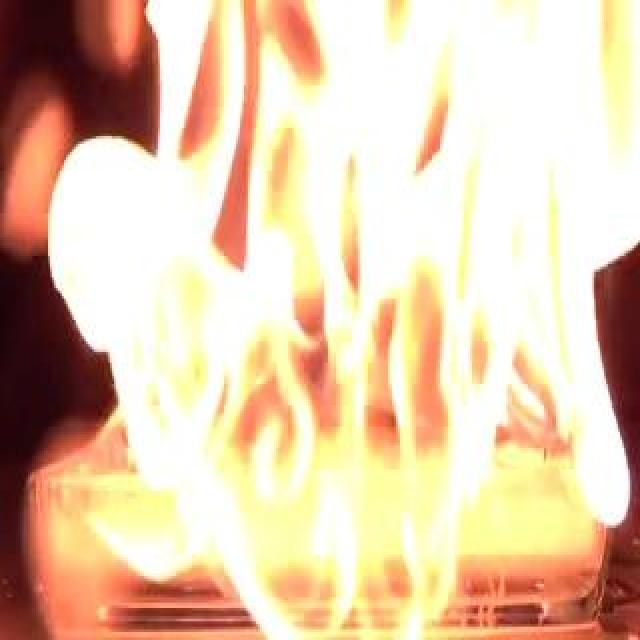Fire: (32, 2, 638, 554)
